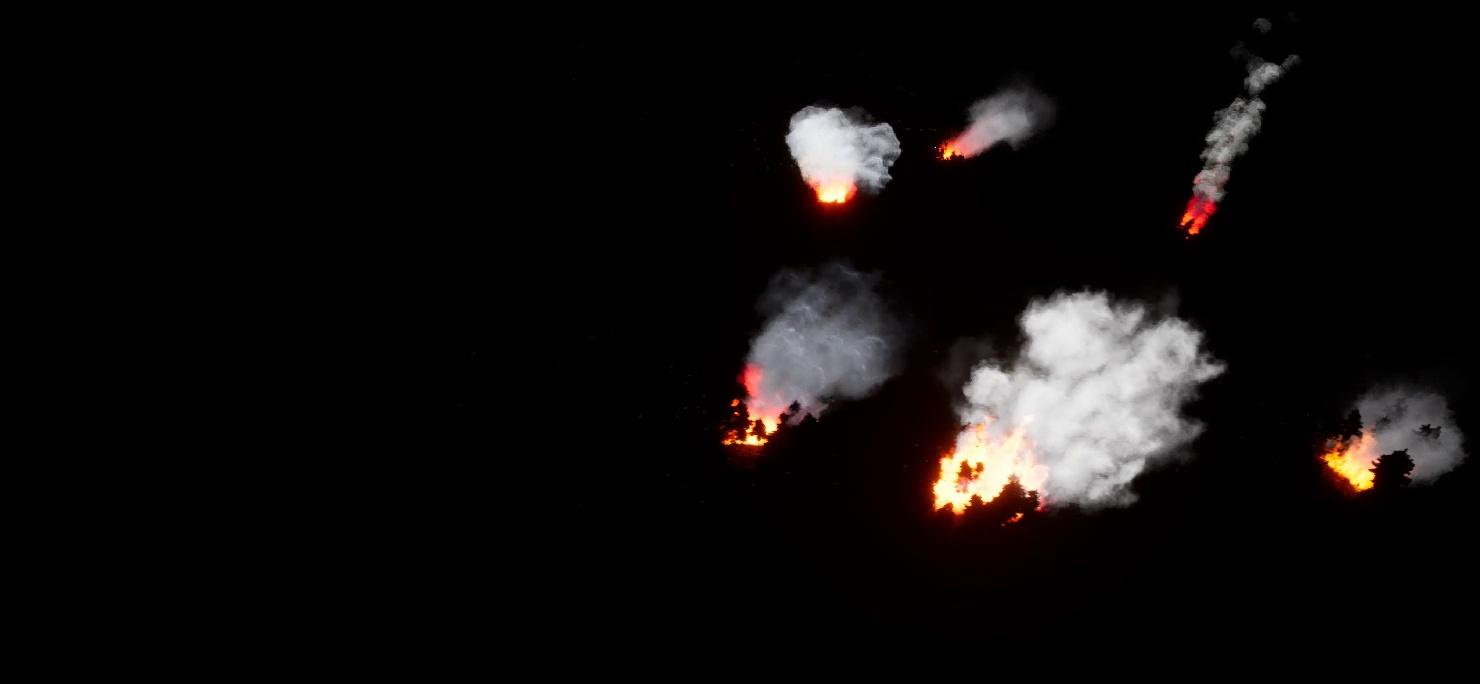fire: (932, 419, 1048, 522), (722, 360, 783, 455), (1322, 440, 1381, 486), (809, 170, 868, 206), (1176, 196, 1214, 232), (940, 127, 971, 160)
smoke: (981, 283, 1224, 532), (758, 263, 894, 414), (1196, 70, 1299, 186), (781, 96, 907, 188), (1363, 391, 1465, 486), (971, 81, 1045, 142)
